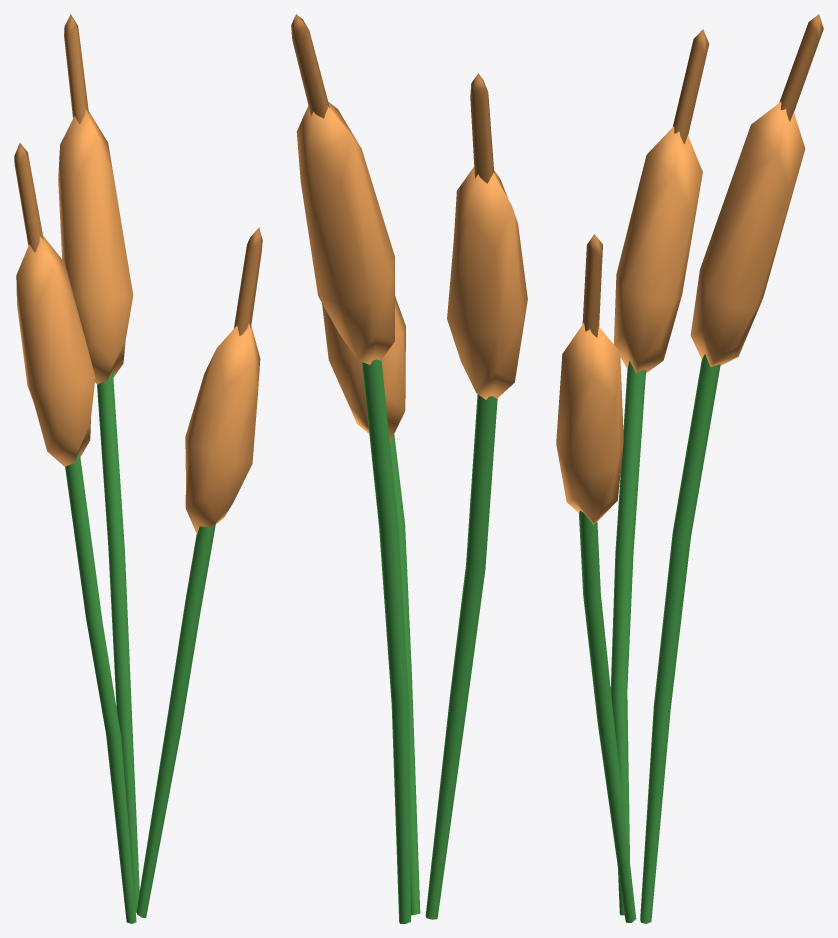
The model's file is Foxtail.fbx.
3 renders of one model, left to right at view 1: azimuth 30°, elevation 25°; view 2: azimuth 150°, elevation 25°; view 3: azimuth 270°, elevation 25°, orthographic. The views are drawn at different scales.
Visible parts, largest first — view 1: Foxtail; view 2: Foxtail; view 3: Foxtail.
Boxes of the visible parts, bbox=[...] form: Foxtail: bbox=[14, 14, 262, 923]; Foxtail: bbox=[291, 14, 527, 923]; Foxtail: bbox=[556, 14, 823, 923].
Bounding box in the file's own units: 25.45 × 96.98 × 25.69.
